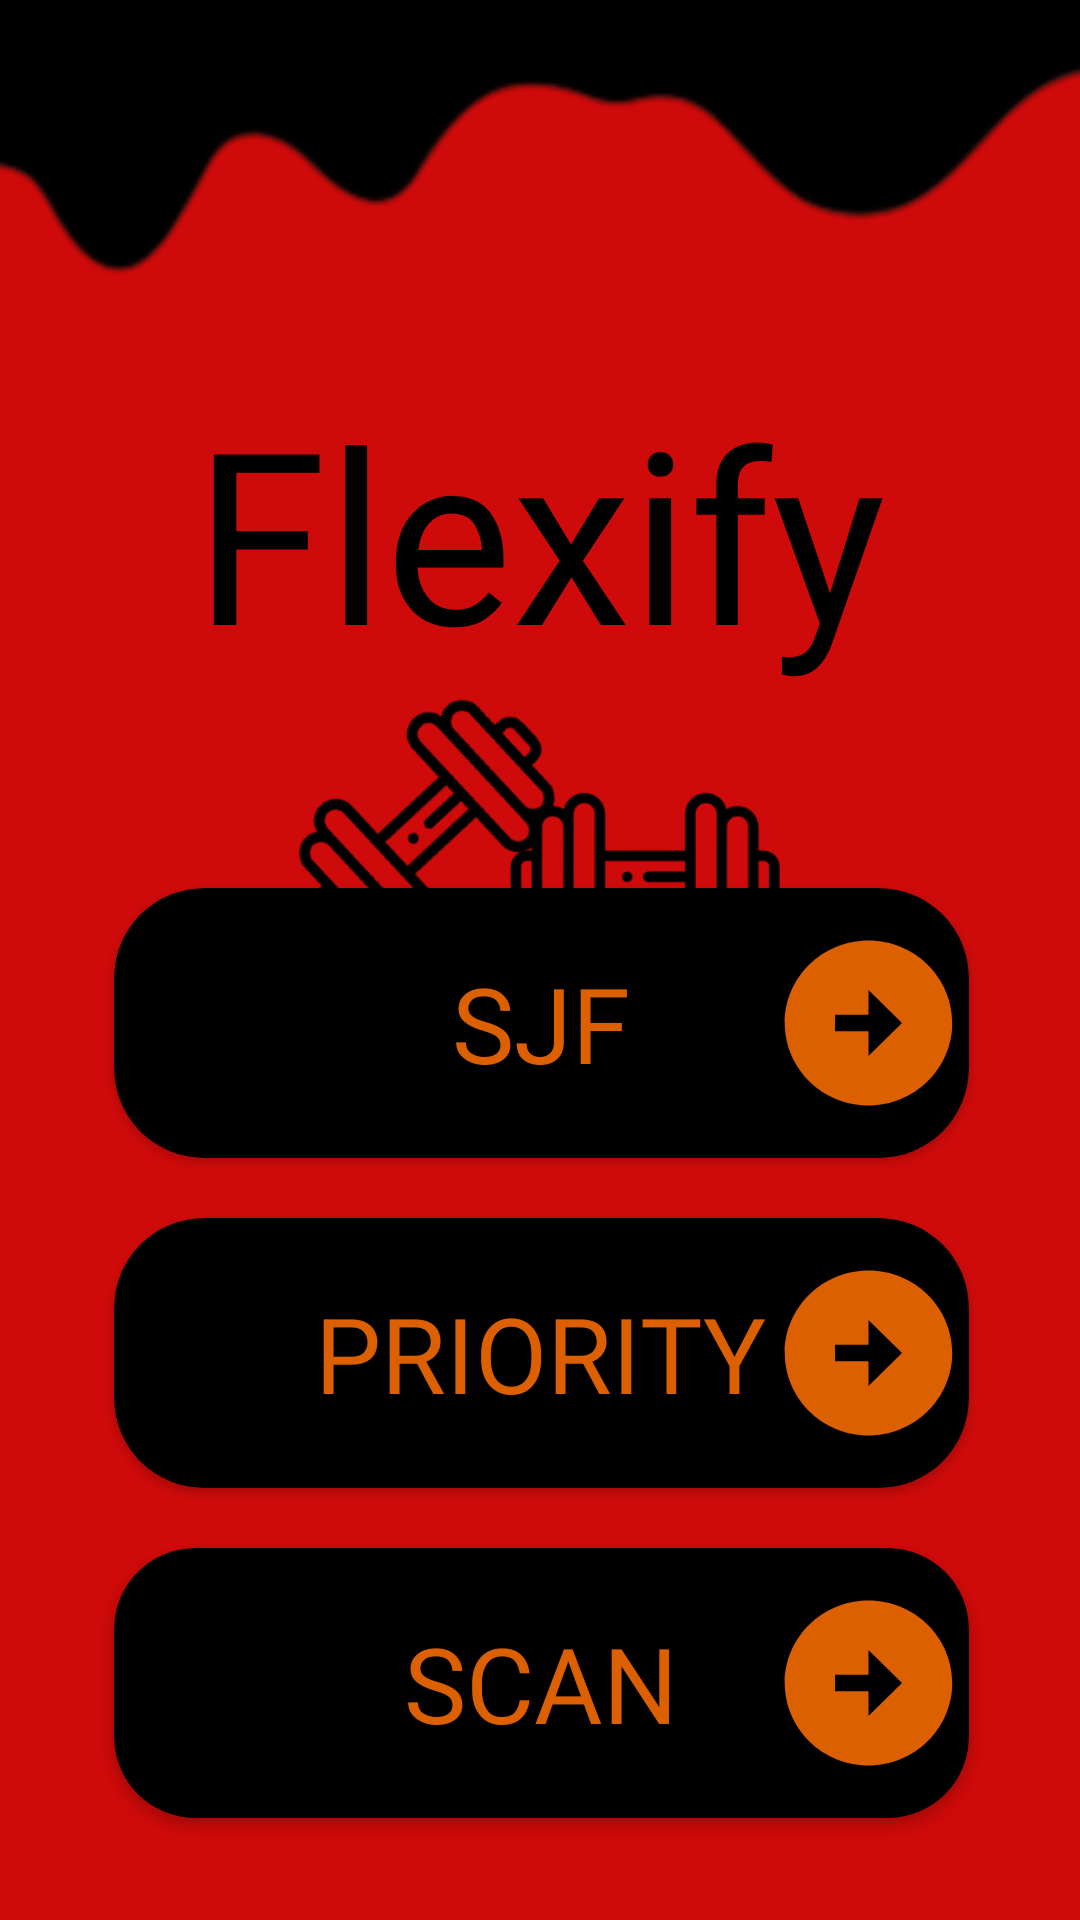

Where icons sit on this 1080*1920 app screen, as (x1, y1, x2, y2):
arrow circle right: (784, 940, 953, 1106), (784, 1270, 953, 1436), (784, 1600, 953, 1766)
